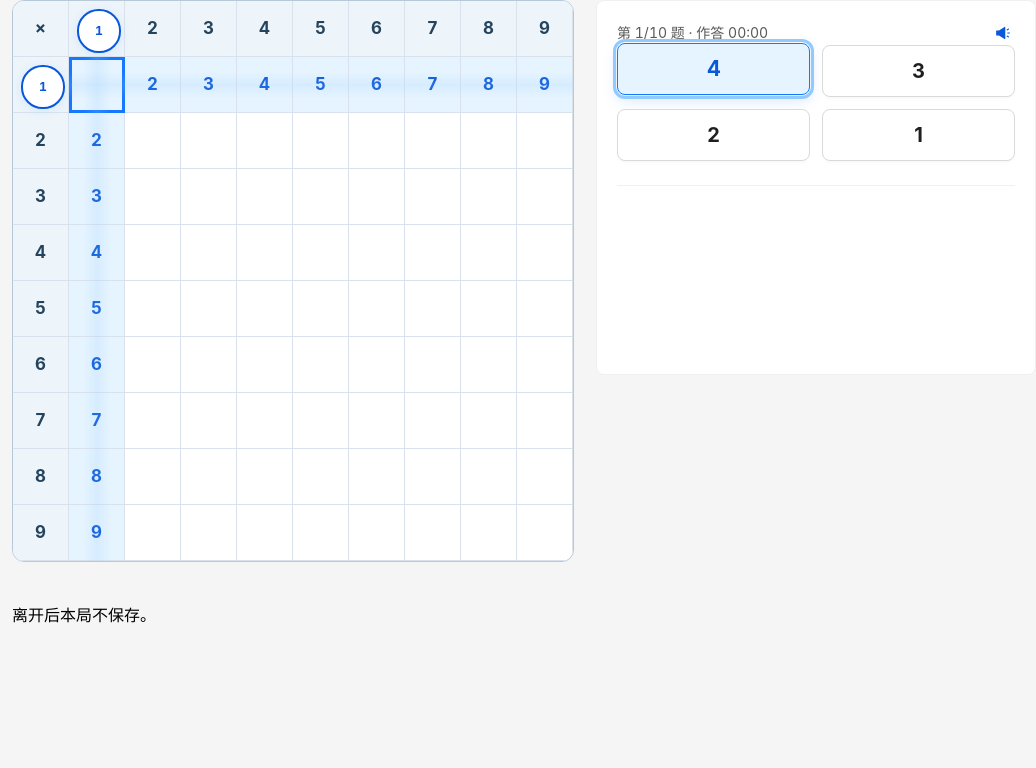
Test: 九九乘法最小闭环 › 手动切题和自动切题竞争时只推进一次
Step 1. Click the button named "选择答案 1" → (918,135), box [822,109,1015,161]
Wait 1999 ms
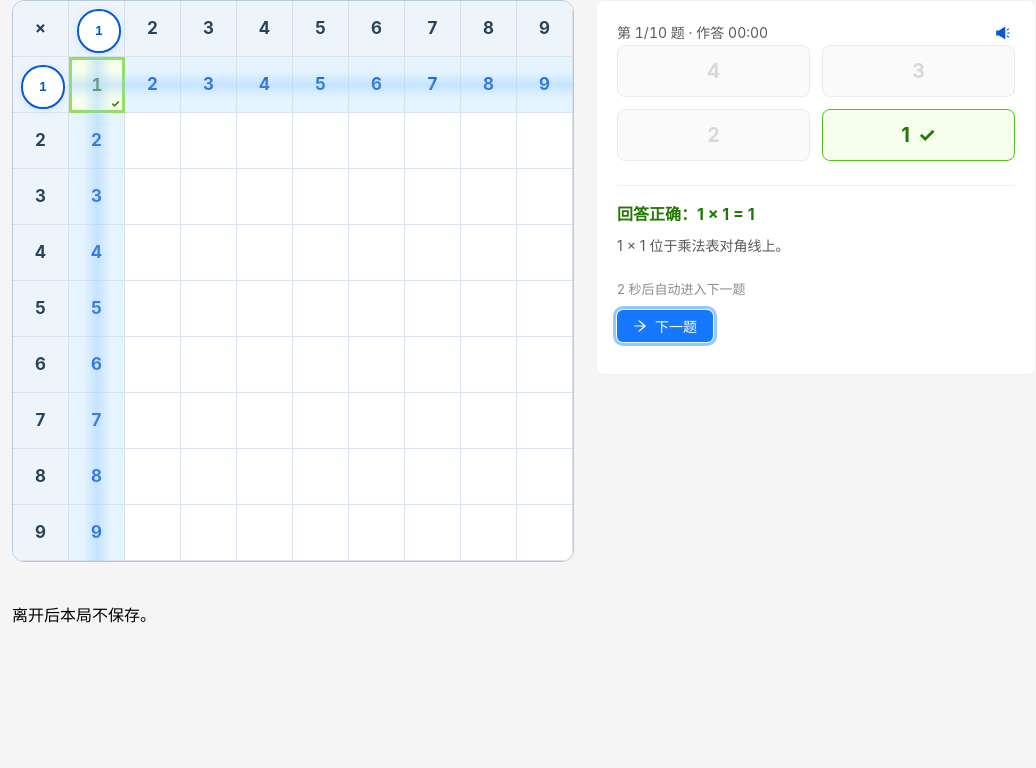
Step 2. Click the button "下一题" → (665,326), box [617,310,713,342]
Wait 1 ms
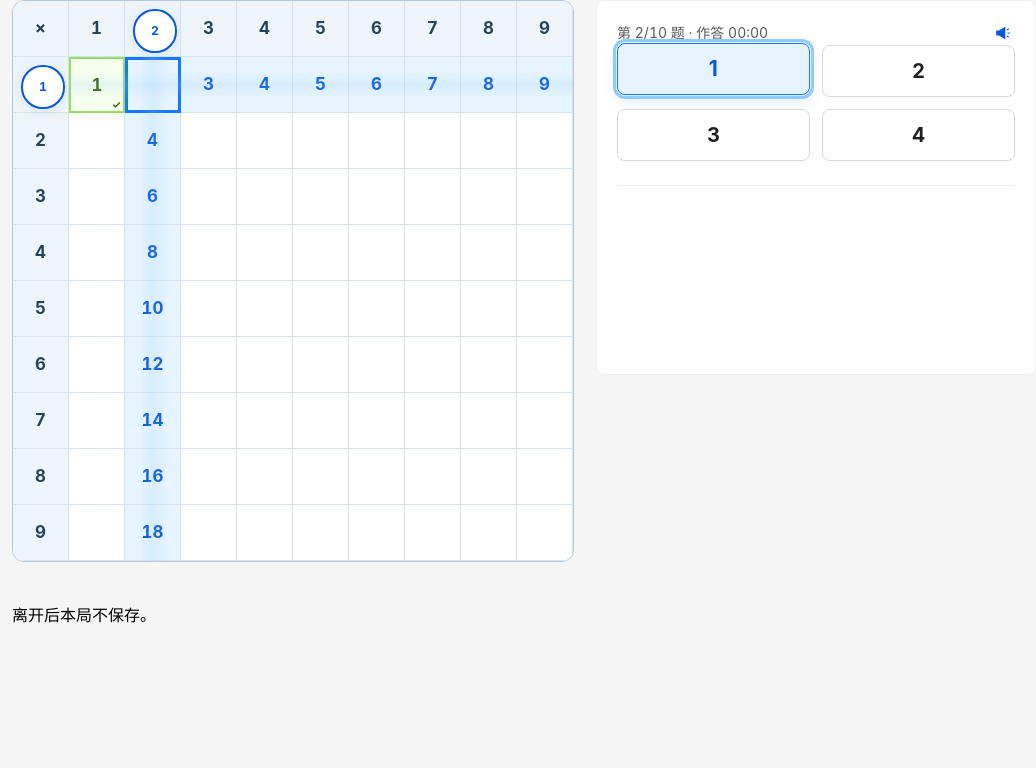
Check: the text "第 2/10 题 · 作答 00:00" is shown, box [617,22,768,44]
